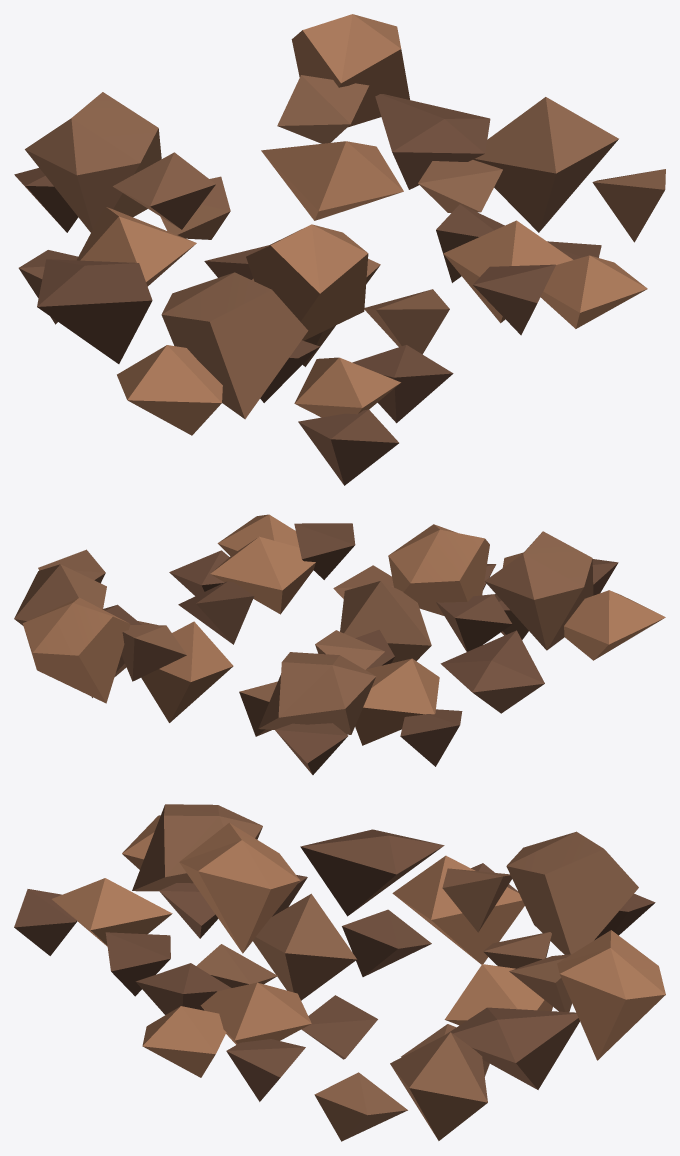
Rendered from entity24234.glb.
The picture shows the model from 3 angles, top to bottom: view 1: azimuth 30°, elevation 25°; view 2: azimuth 150°, elevation 25°; view 3: azimuth 270°, elevation 25°; orthographic projection. The views are drawn at different scales.
Visible parts, largest first — view 1: node_SM_Env_Plant_Small_03 (38); view 2: node_SM_Env_Plant_Small_03 (38); view 3: node_SM_Env_Plant_Small_03 (38).
Boxes of the visible parts, <box> form: node_SM_Env_Plant_Small_03 (38): <box>14,14,665,485</box>; node_SM_Env_Plant_Small_03 (38): <box>14,514,665,774</box>; node_SM_Env_Plant_Small_03 (38): <box>14,804,665,1141</box>.
Size of the model in its own units: 2.56 by 0.6388 by 2.46.
1 material, 1 textured.
